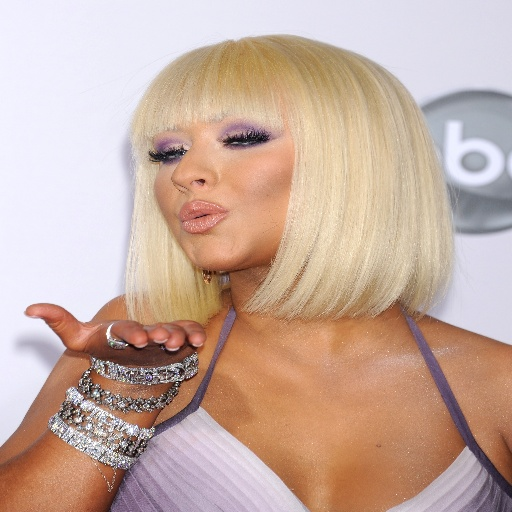hand: (16, 274, 203, 376)
